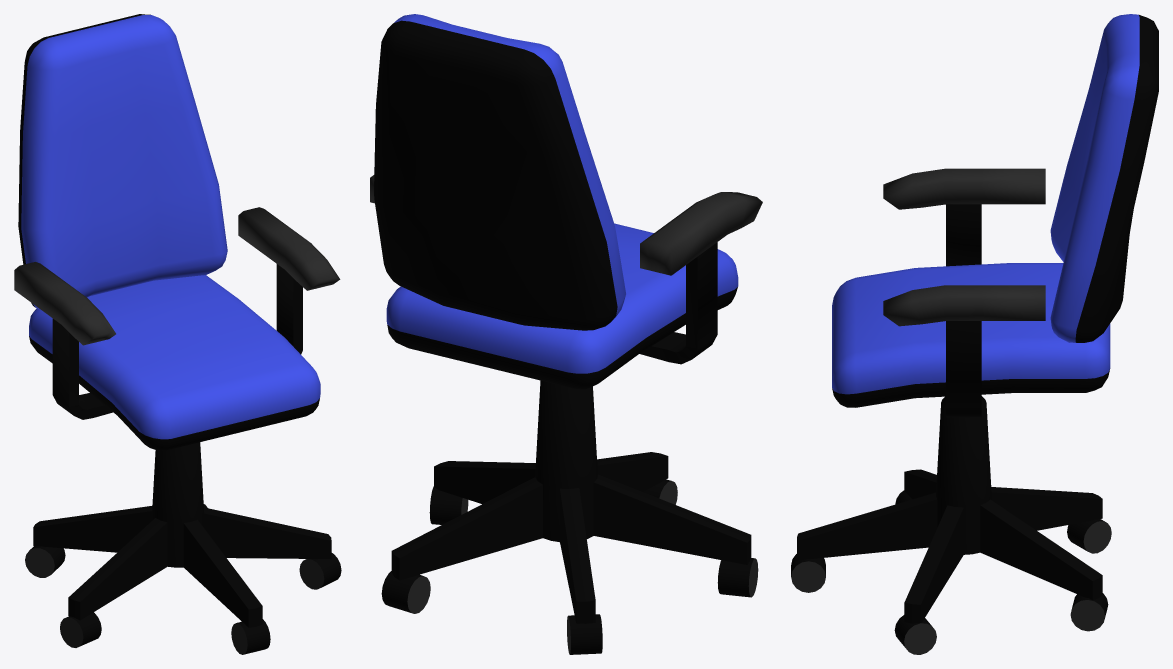
The model's file is OfficeChair.fbx.
3 renders of one model, left to right at view 1: azimuth 30°, elevation 25°; view 2: azimuth 150°, elevation 25°; view 3: azimuth 270°, elevation 25°, orthographic. The views are drawn at different scales.
Parts seen in each view (by area): view 1: Cylinder.008; view 2: Cylinder.008; view 3: Cylinder.008.
Boxes of the visible parts, x1=… form: Cylinder.008: x1=14, y1=14, x2=341, y2=654; Cylinder.008: x1=370, y1=14, x2=762, y2=654; Cylinder.008: x1=791, y1=14, x2=1158, y2=654.
Size of the model in its own units: 503 by 910 by 556.
